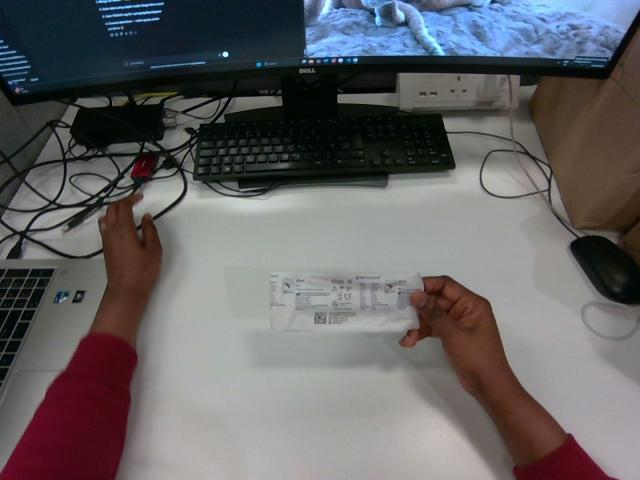syringe: (270, 272, 423, 331)
